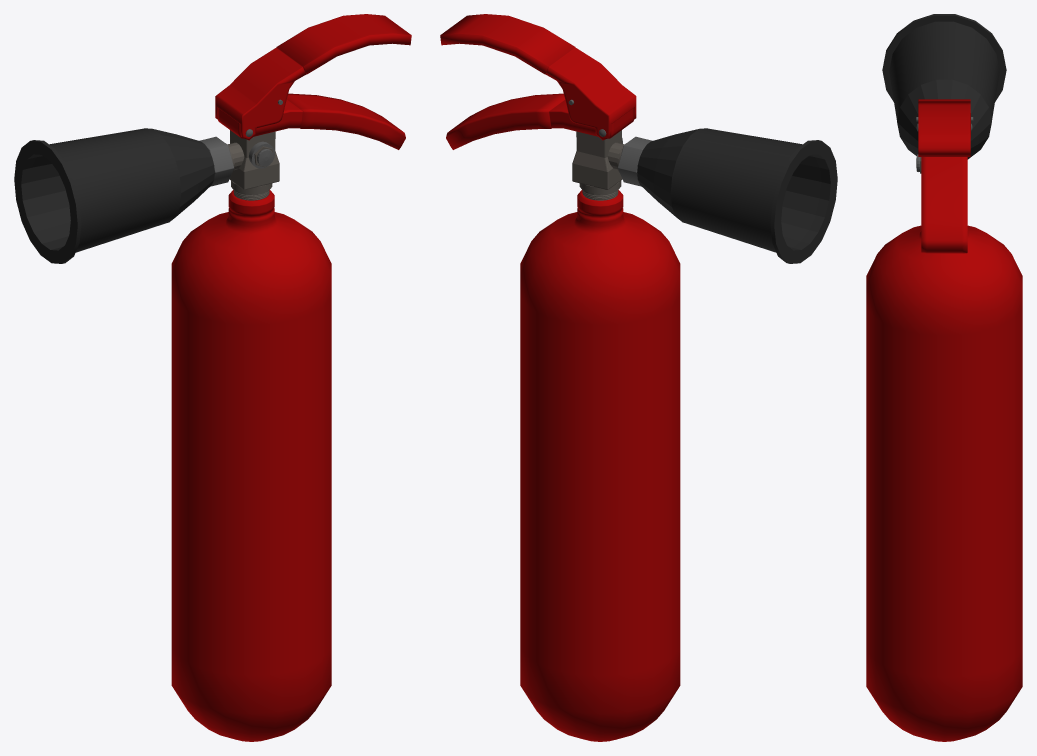
The model's file is Fire_Extinguisher.FBX.
3 views of the same model, side by side, from view 1: azimuth 30°, elevation 25°; view 2: azimuth 150°, elevation 25°; view 3: azimuth 270°, elevation 25° (orthographic). The views are drawn at different scales.
Visible parts, largest first — view 1: Body, Horn, Lever_Upper, Lever_Lower, Discharge_Head, Elbow_O-Ring; view 2: Body, Horn, Lever_Upper, Lever_Lower, Discharge_Head, Elbow_O-Ring; view 3: Body, Horn, Lever_Lower, Lever_Upper.
Boxes of the visible parts, x1,y1,x2,y2 form: Body: (171, 190, 331, 741); Horn: (14, 128, 214, 263); Lever_Upper: (215, 14, 411, 140); Lever_Lower: (217, 93, 405, 149); Discharge_Head: (229, 130, 279, 195); Elbow_O-Ring: (199, 136, 233, 186); Body: (520, 190, 680, 741); Horn: (637, 128, 837, 263); Lever_Upper: (440, 14, 636, 140); Lever_Lower: (446, 93, 634, 149); Discharge_Head: (572, 130, 622, 195); Elbow_O-Ring: (618, 136, 652, 186); Body: (866, 225, 1022, 741); Horn: (882, 14, 1006, 159); Lever_Lower: (921, 157, 967, 253); Lever_Upper: (918, 99, 970, 156).
Size of the model in its own units: 25.81 by 47.69 by 10.16.
